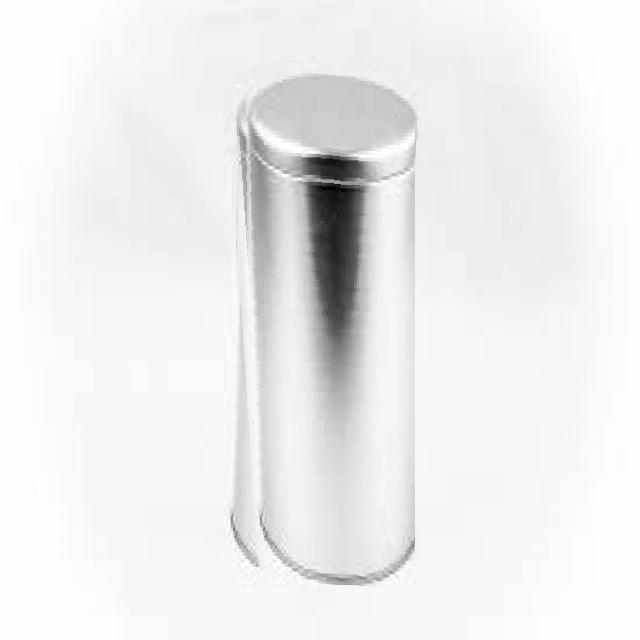recyclable: (225, 68, 416, 586)
